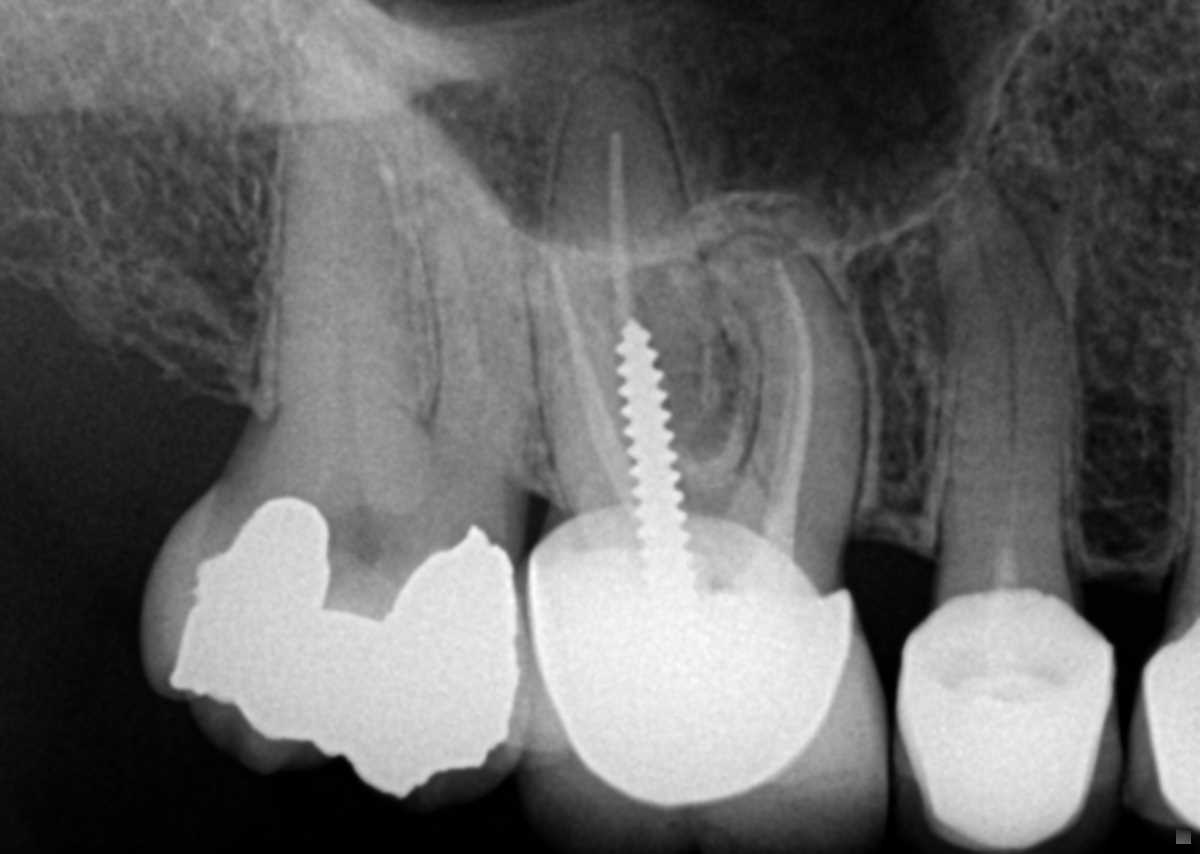Apical Lesion: (864, 129, 1081, 318)
Distal Canal: (332, 194, 355, 432)
Distal Root: (265, 128, 419, 429), (522, 218, 649, 501)
Main Canal: (979, 239, 1021, 514)
Main Root: (930, 168, 1074, 574)
Mesial Canal: (428, 196, 486, 465)
Mesial Root: (379, 112, 540, 469), (701, 232, 870, 536)
Palatal Root: (545, 62, 764, 565), (245, 1, 463, 443)
Root Canal Filling: (541, 241, 643, 490), (764, 262, 812, 515), (609, 130, 635, 329)
